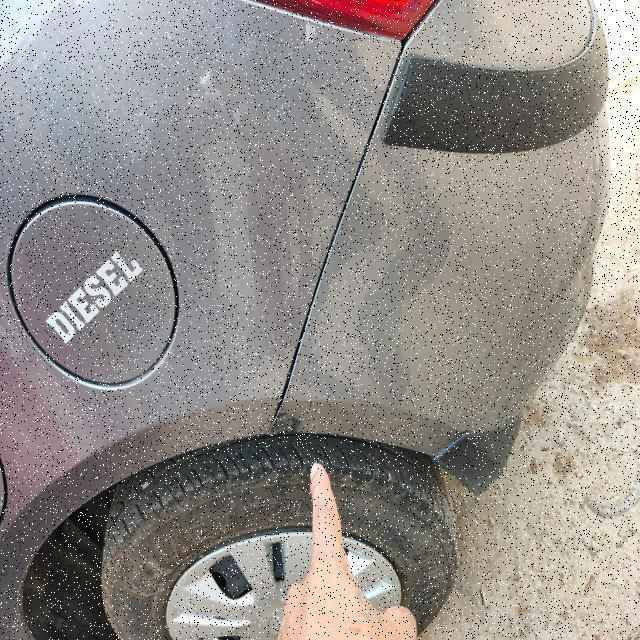rear-bumper-dent: (252, 201, 604, 548)
